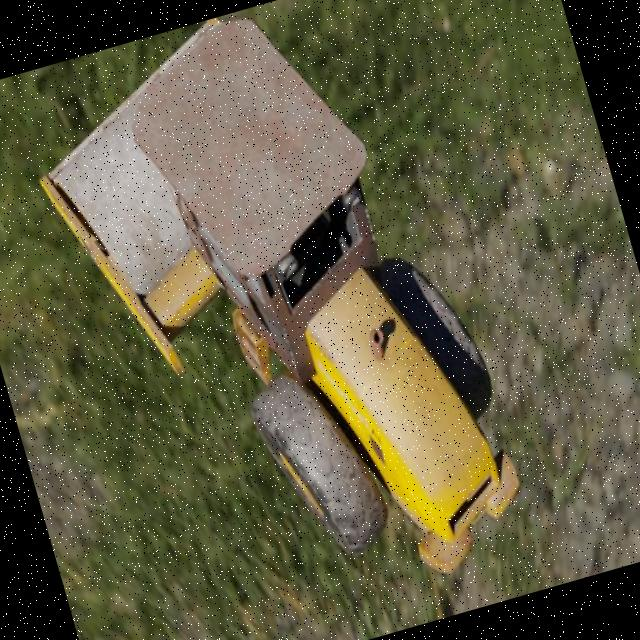Roller: (9, 0, 540, 640)
